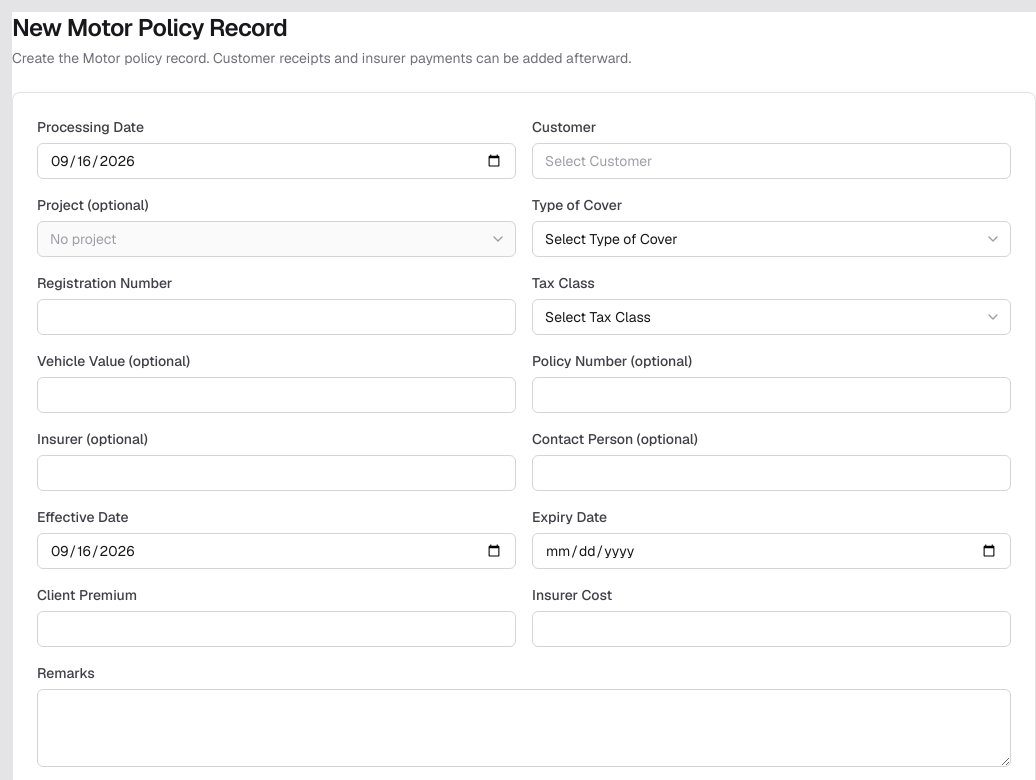
Test: Motor Policy create form — Customer SearchableSelect › Case 1: filters by Company Name substring, case-insensitive
Type "jiangxi" into the field with placeholder "Select Customer" at point(772, 161), box [532,143,1011,179]
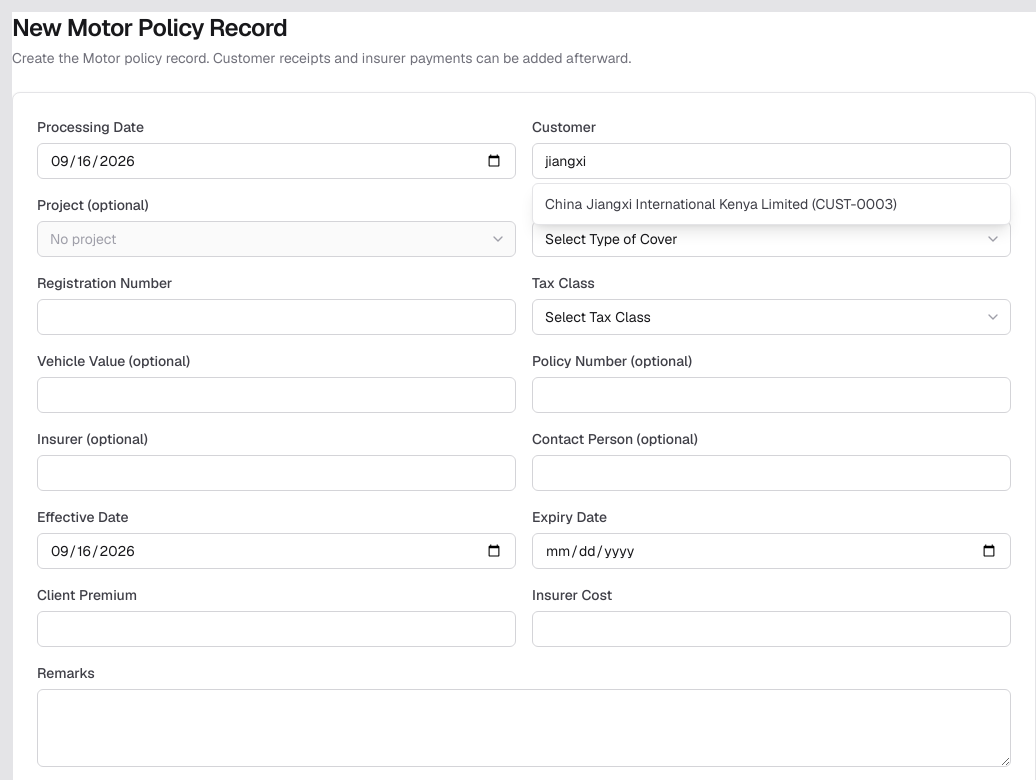
Check: the button "China Jiangxi International Kenya Limited (CUST-0003)" is shown, box [533,188,1010,220]
